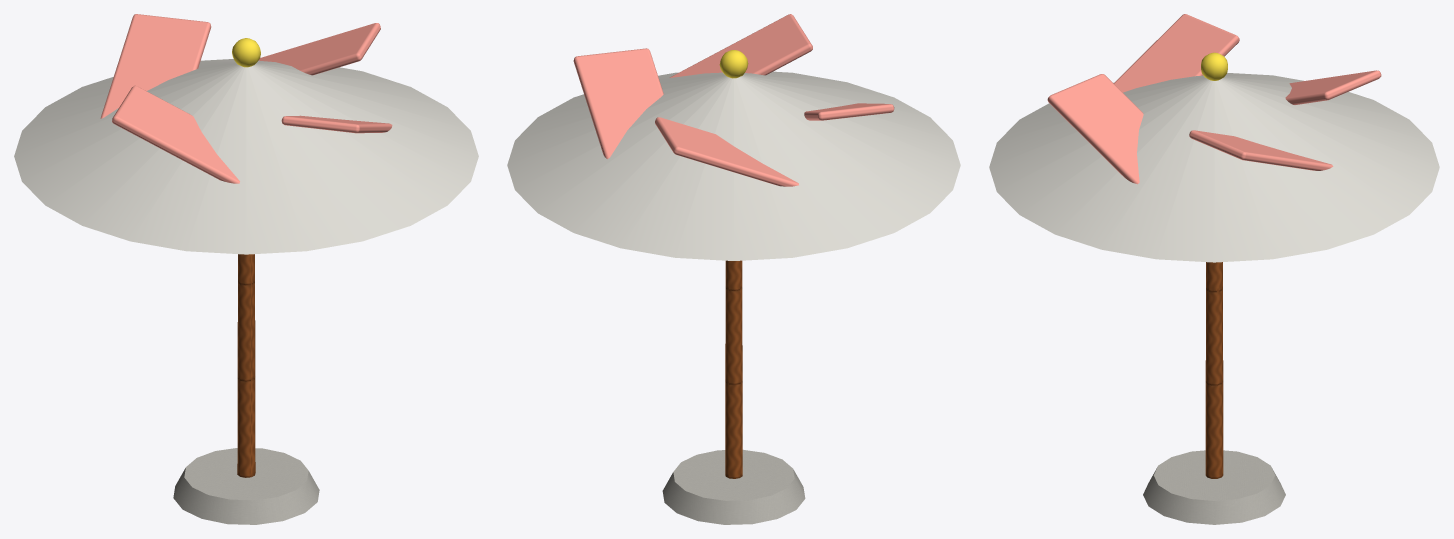
File: parasol.glb
3 renders of one model, left to right at view 1: azimuth 30°, elevation 25°; view 2: azimuth 150°, elevation 25°; view 3: azimuth 270°, elevation 25°, orthographic. The views are drawn at different scales.
Parts seen in each view (by area): view 1: cafe-parasol; view 2: cafe-parasol; view 3: cafe-parasol.
Part boxes in pixels (x1,y1,x2,y2): cafe-parasol: (14, 14, 478, 524); cafe-parasol: (507, 14, 960, 524); cafe-parasol: (989, 14, 1439, 524).
Size of the model in its own units: 2.52 by 2.72 by 2.52.
5 materials, 2 textured.
